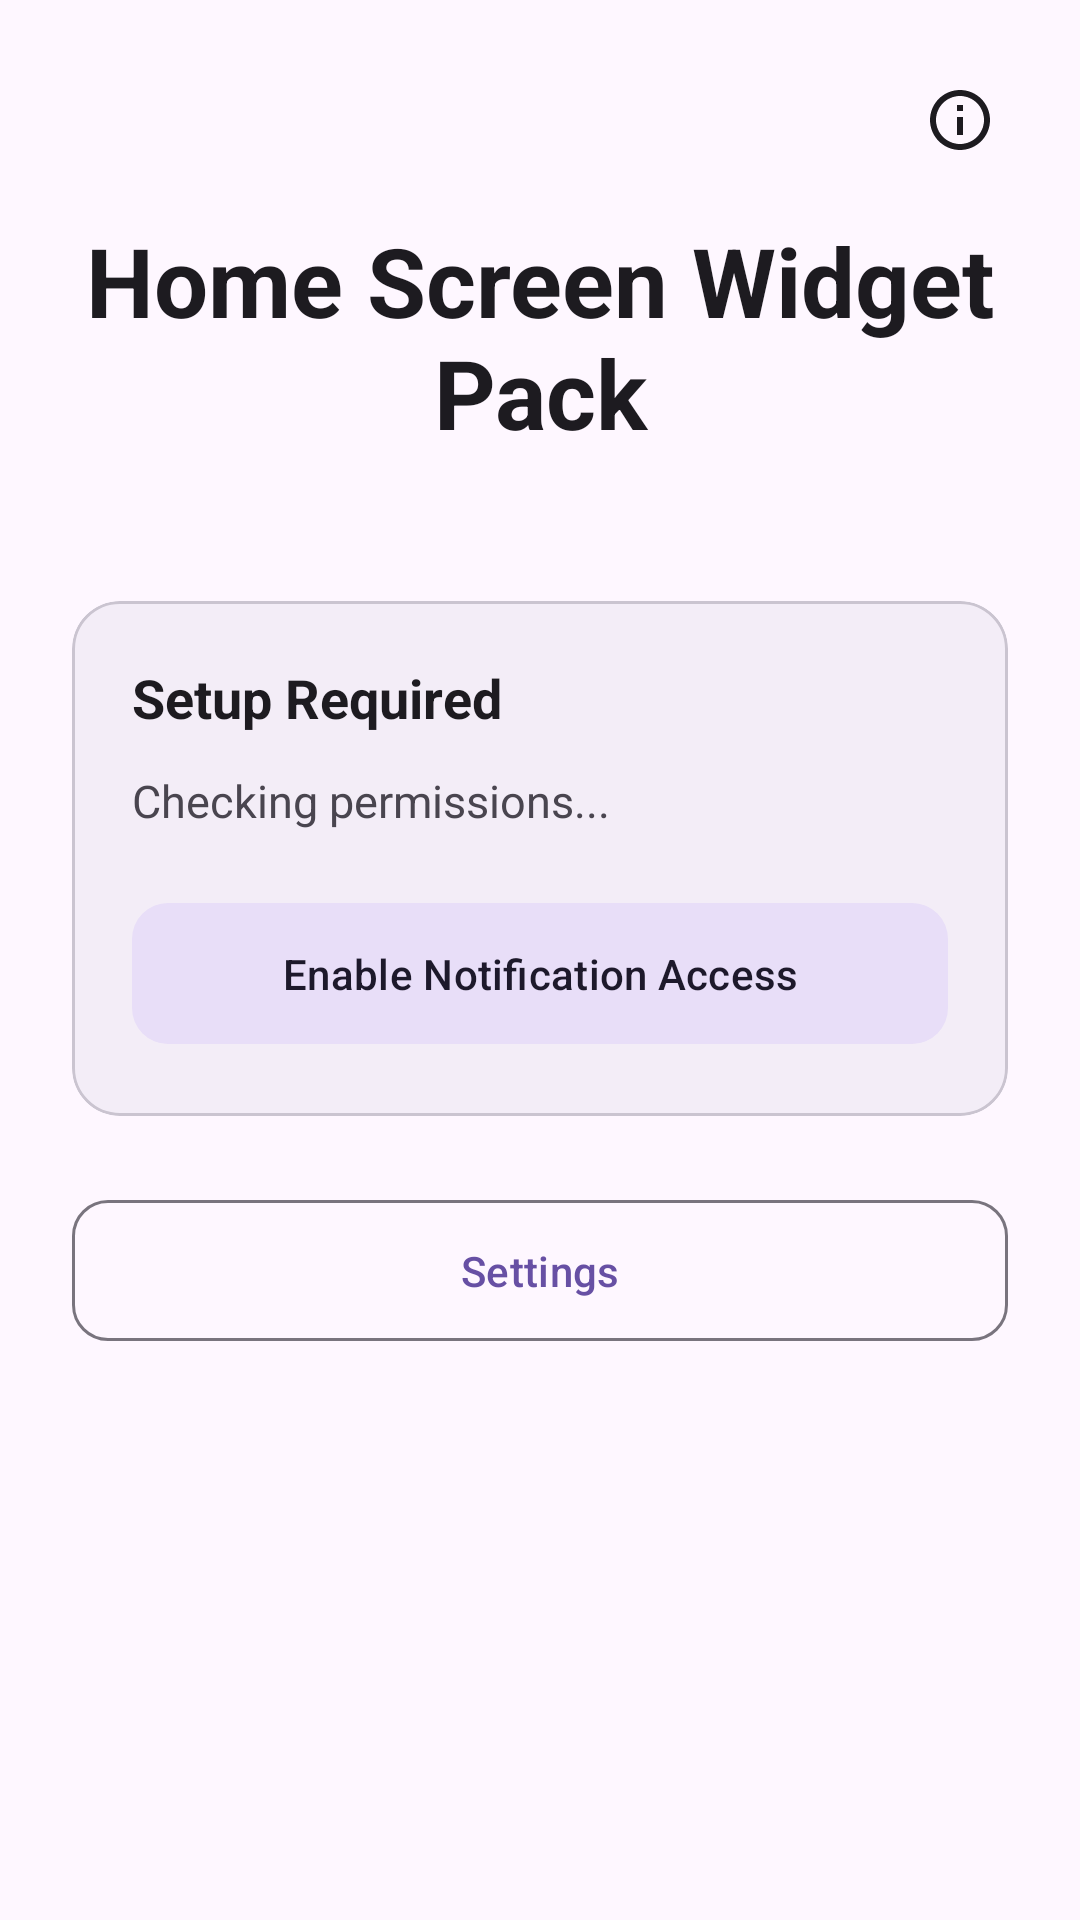

Icons on this 1080px x 1920px Android screen, each with the point to tap as (x,y):
About: (960,120)
